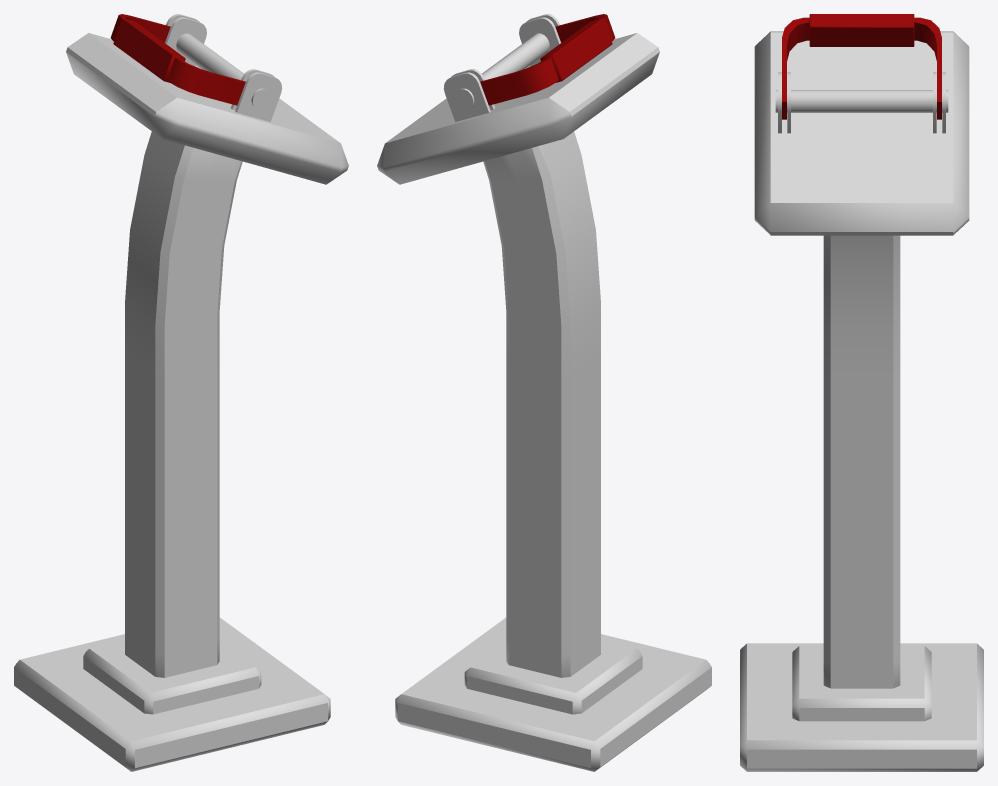
Rendered from Manual Lever.fbx.
3 views of the same model, side by side, from view 1: azimuth 30°, elevation 25°; view 2: azimuth 150°, elevation 25°; view 3: azimuth 270°, elevation 25° (orthographic). The views are drawn at different scales.
Visible parts, largest first — view 1: Holder, Plate, Lever; view 2: Holder, Plate, Lever; view 3: Holder, Plate, Lever.
Part boxes in pixels (x1,y1,x2,y2): Holder: (14, 131, 330, 771); Plate: (66, 14, 348, 184); Lever: (110, 14, 245, 105); Holder: (395, 131, 711, 771); Plate: (377, 14, 659, 184); Lever: (480, 14, 615, 105); Holder: (740, 235, 983, 771); Plate: (754, 31, 969, 235); Lever: (782, 14, 941, 119).
Bounding box in the file's own units: 40.1 × 110 × 35.
